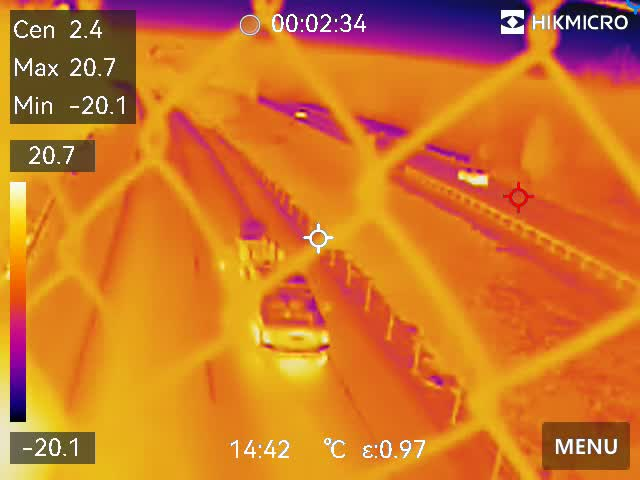vehicle: (207, 219, 342, 374), (455, 163, 491, 188), (289, 106, 312, 121)
